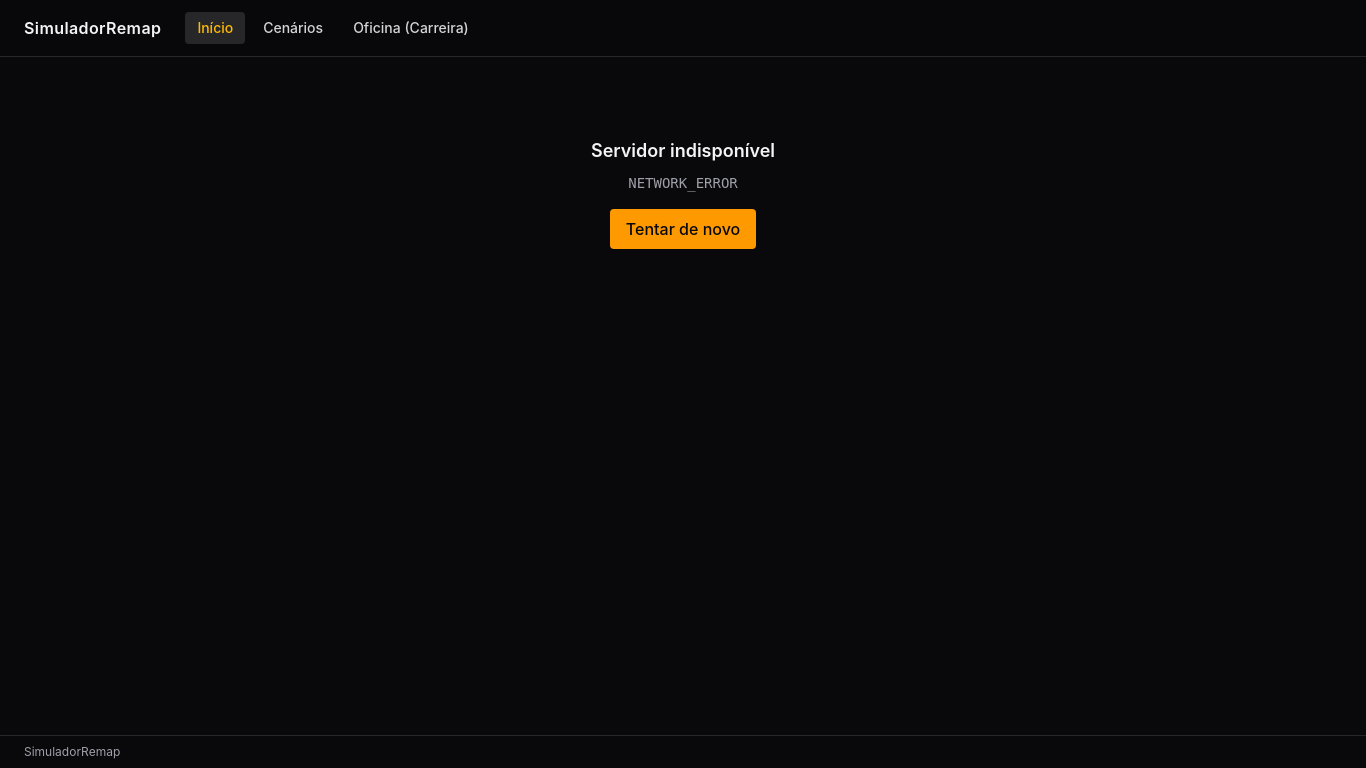
Scenario: App › mostra Servidor indisponível após 3 falhas e permite tentar de novo
The image size is (1366, 768).
Expected: the text "Servidor indisponível" is shown, [591,140,775,161]
Expected: the text "NETWORK_ERROR" is shown, [628,175,738,191]
What coordinates should you click on to do the following:
click the button "Tentar de novo"
I would click on:
 (683, 229)
Its box is [610,209,756,249].
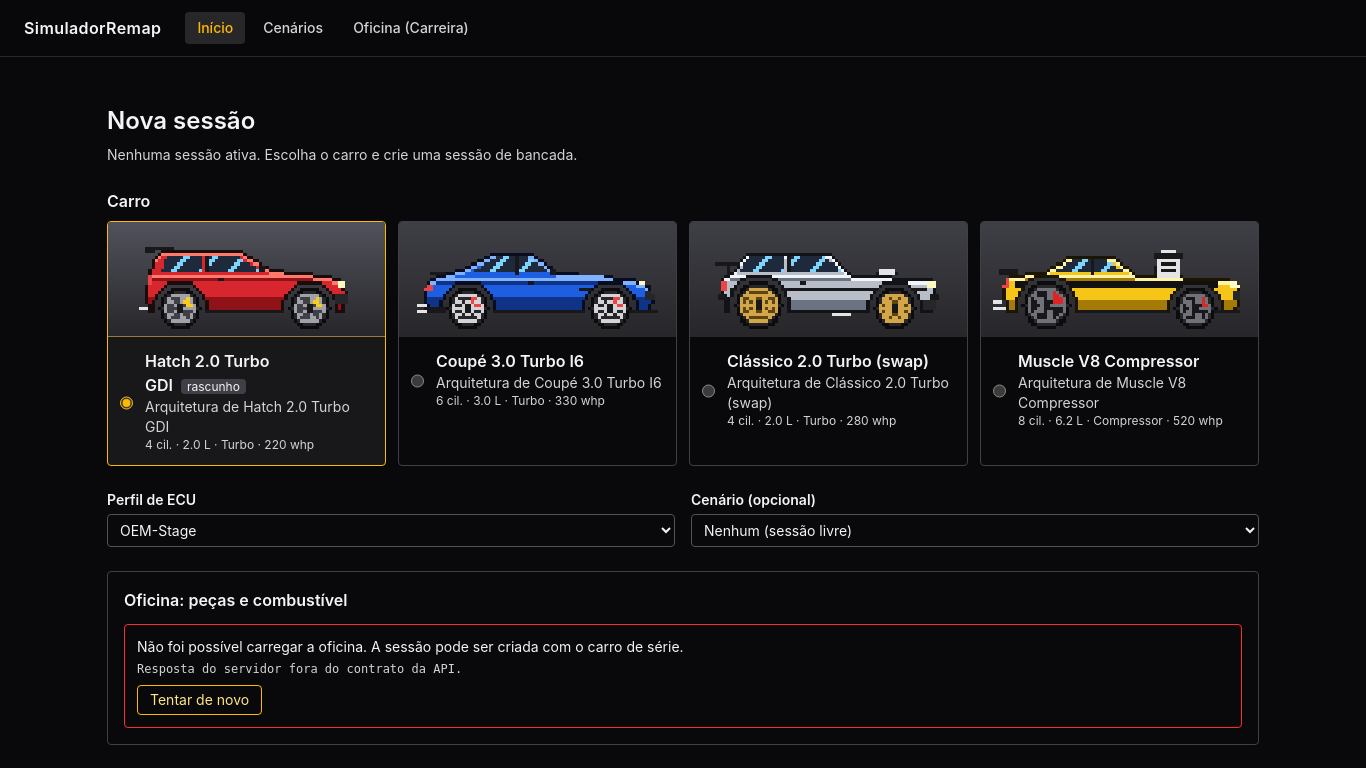
Result: the heading "Nova sessão" is shown at [107,106,255,135]
